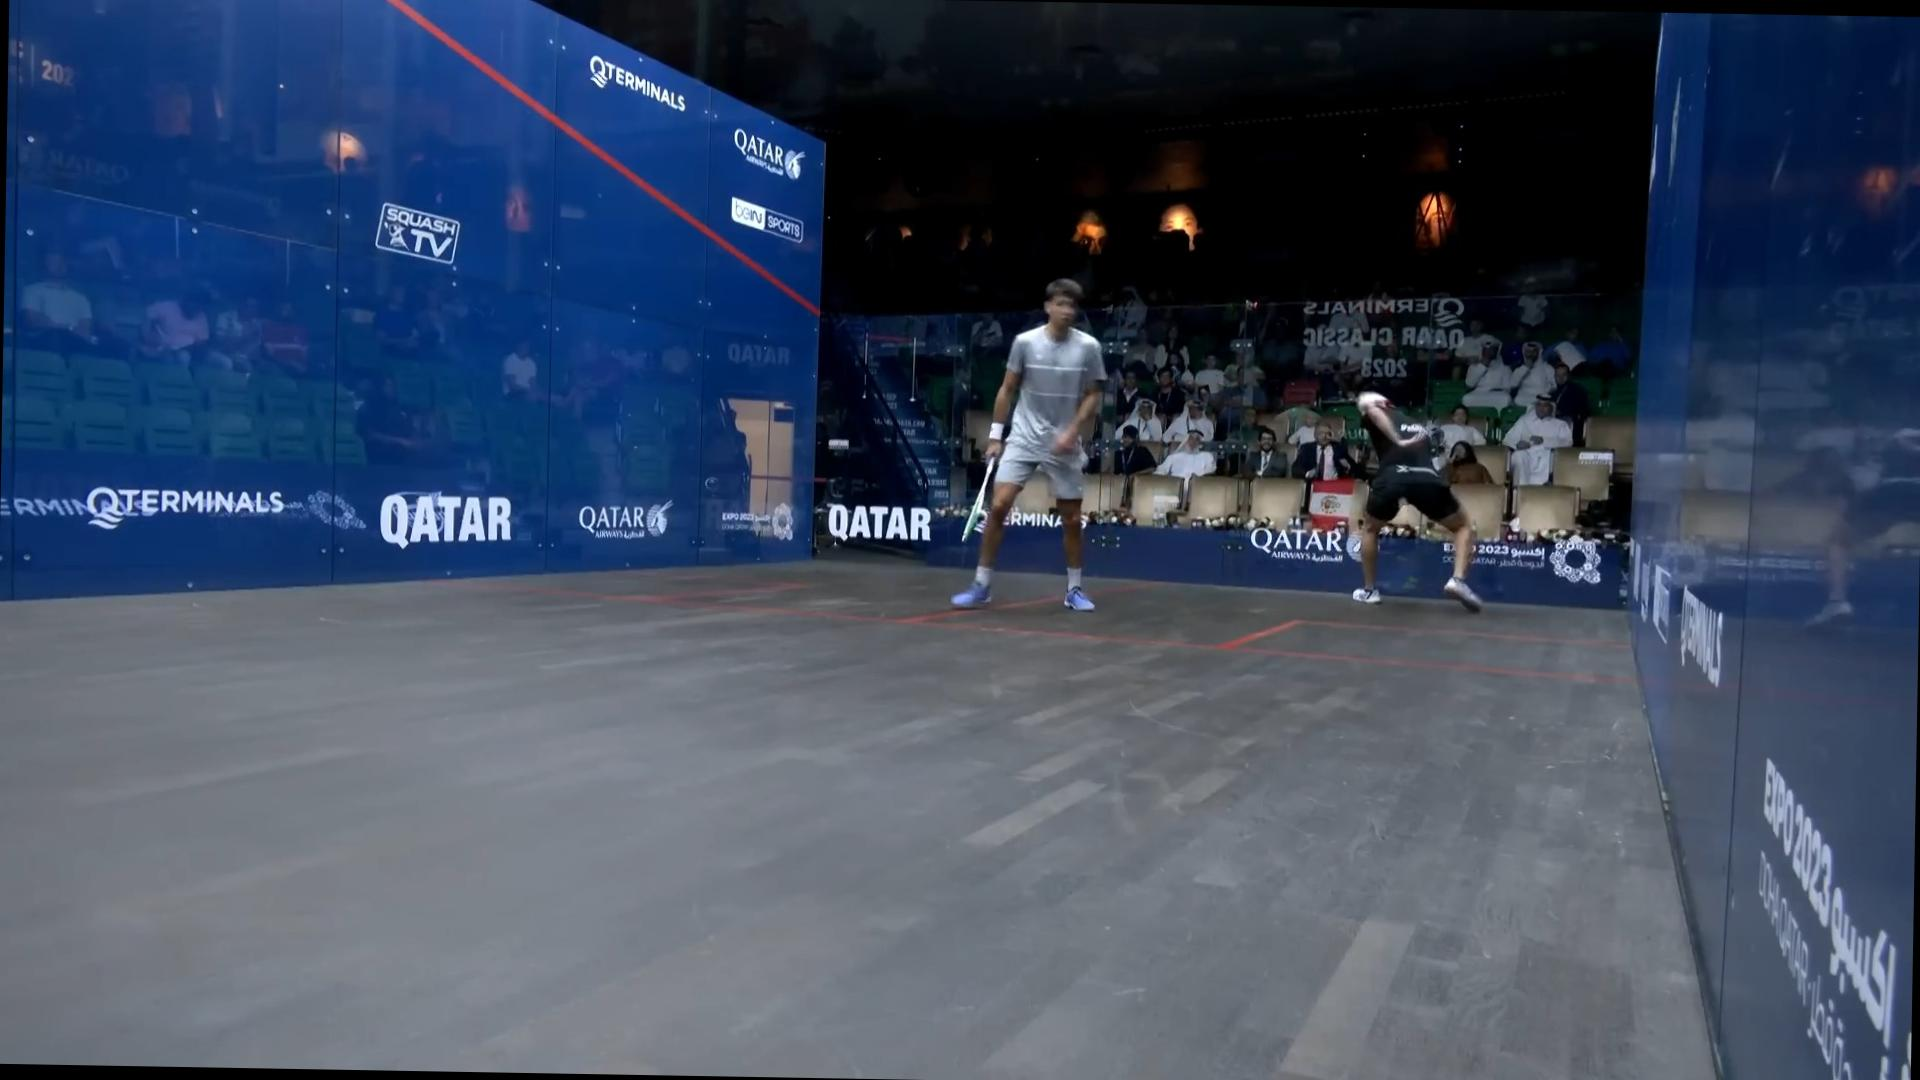Racket: (953, 454, 1006, 543)
